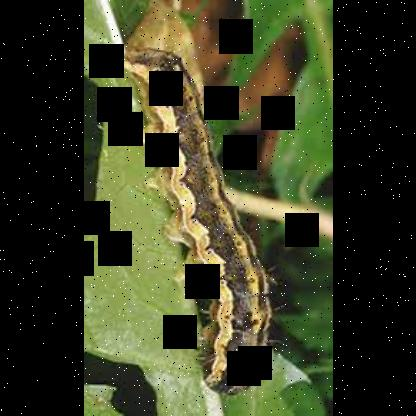oruga: (107, 41, 287, 398)
